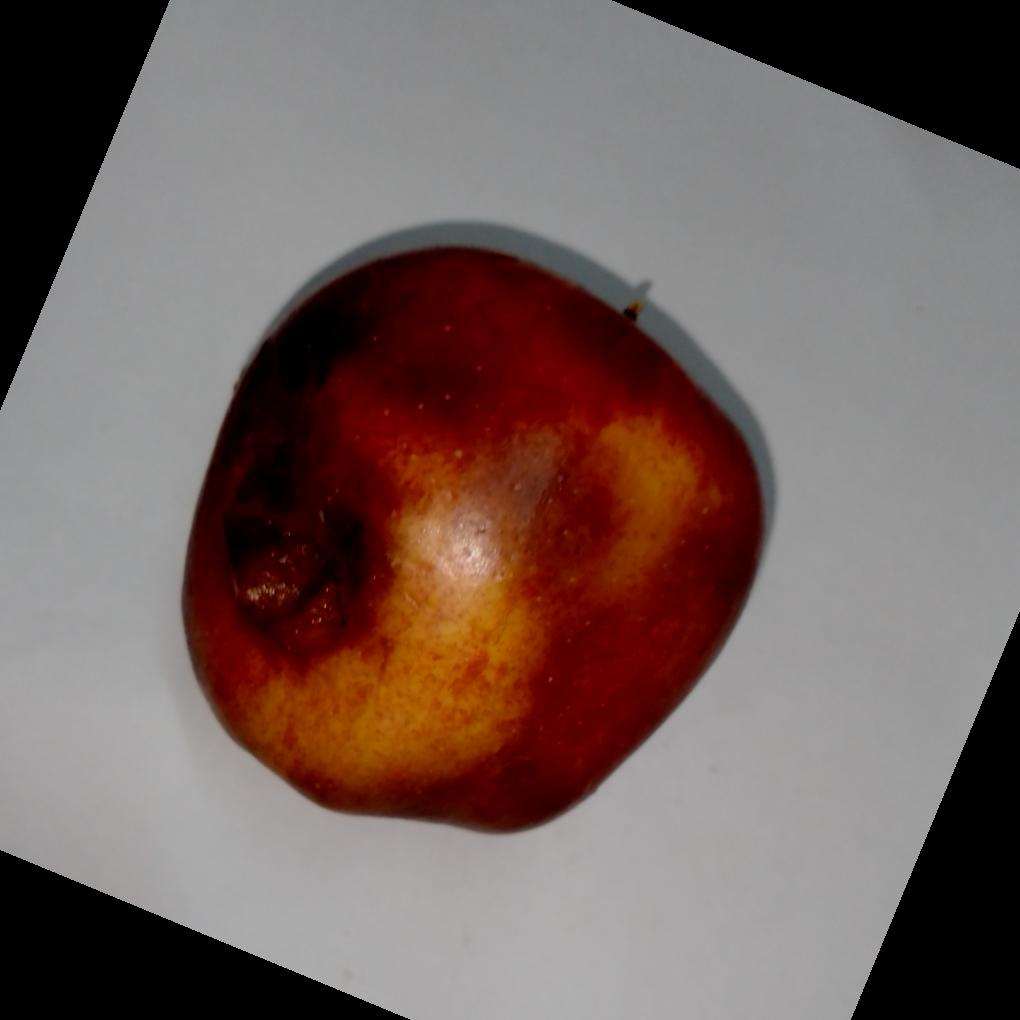FreshOrange: (178, 235, 774, 839)
